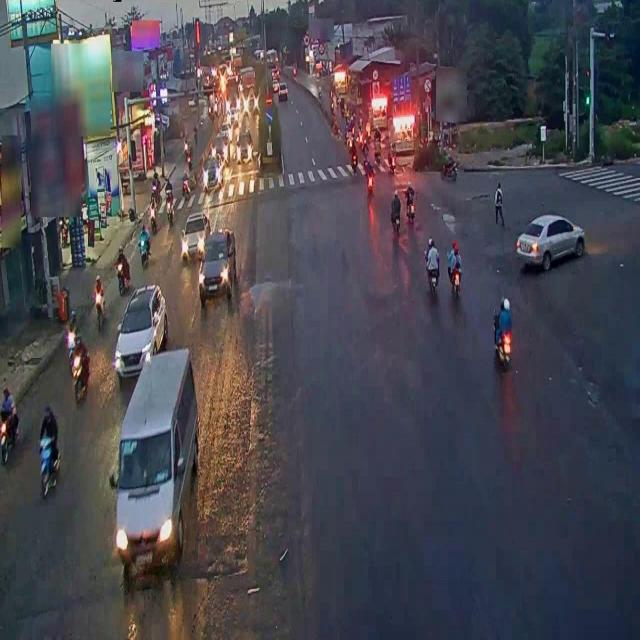car: (196, 227, 236, 309)
motorcycle: (489, 286, 519, 378), (37, 397, 61, 508), (442, 228, 467, 315), (421, 234, 446, 303), (70, 330, 88, 399), (402, 176, 420, 238), (91, 271, 107, 329), (388, 184, 404, 234)
truck: (110, 349, 209, 584)
